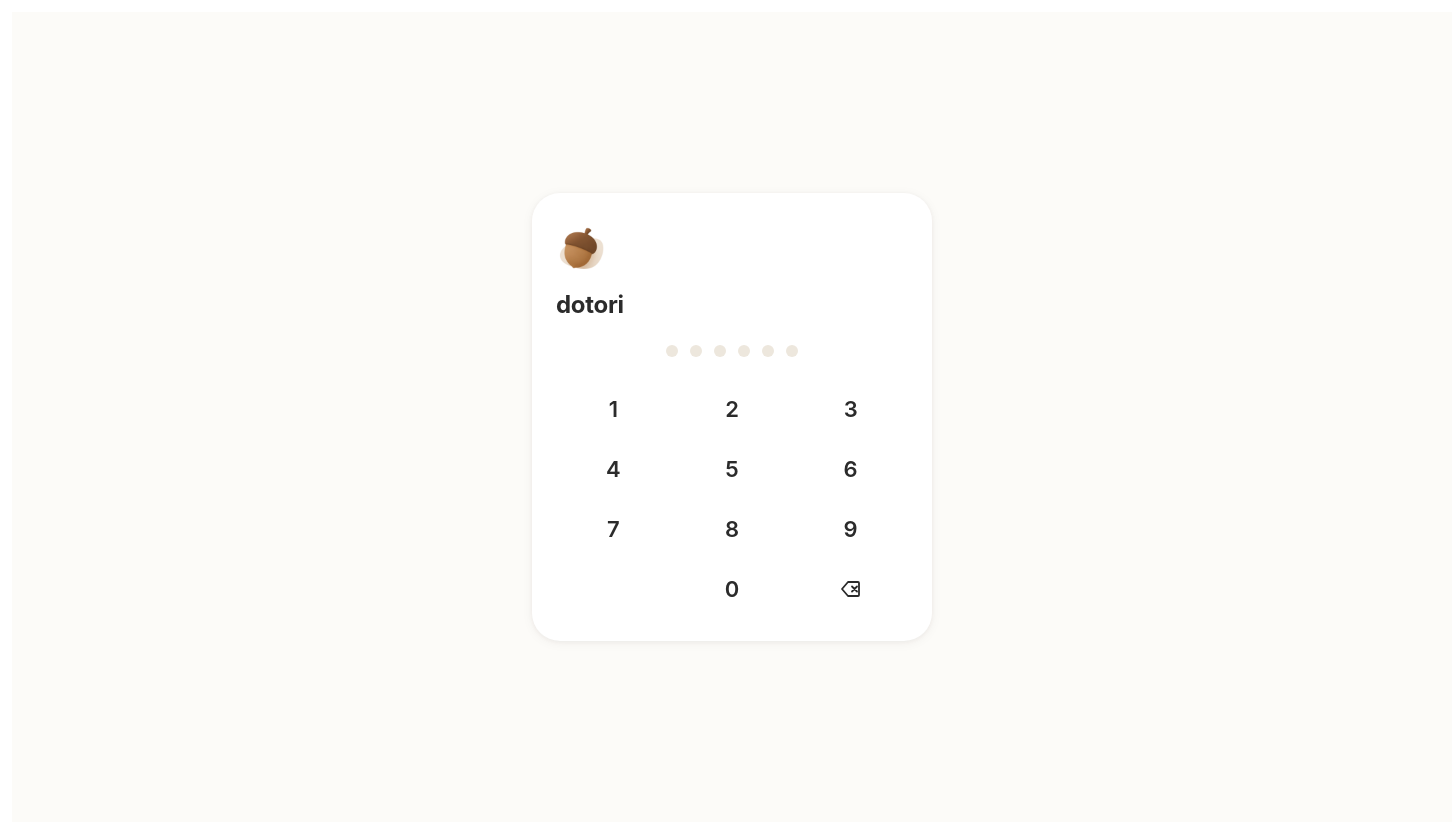
Scenario: LockGate — 재진입 (PIN 잠금) › 올바른 PIN을 입력하면 잠금이 해제된다
Click the button "1": x=613, y=409 [556,381,671,437]
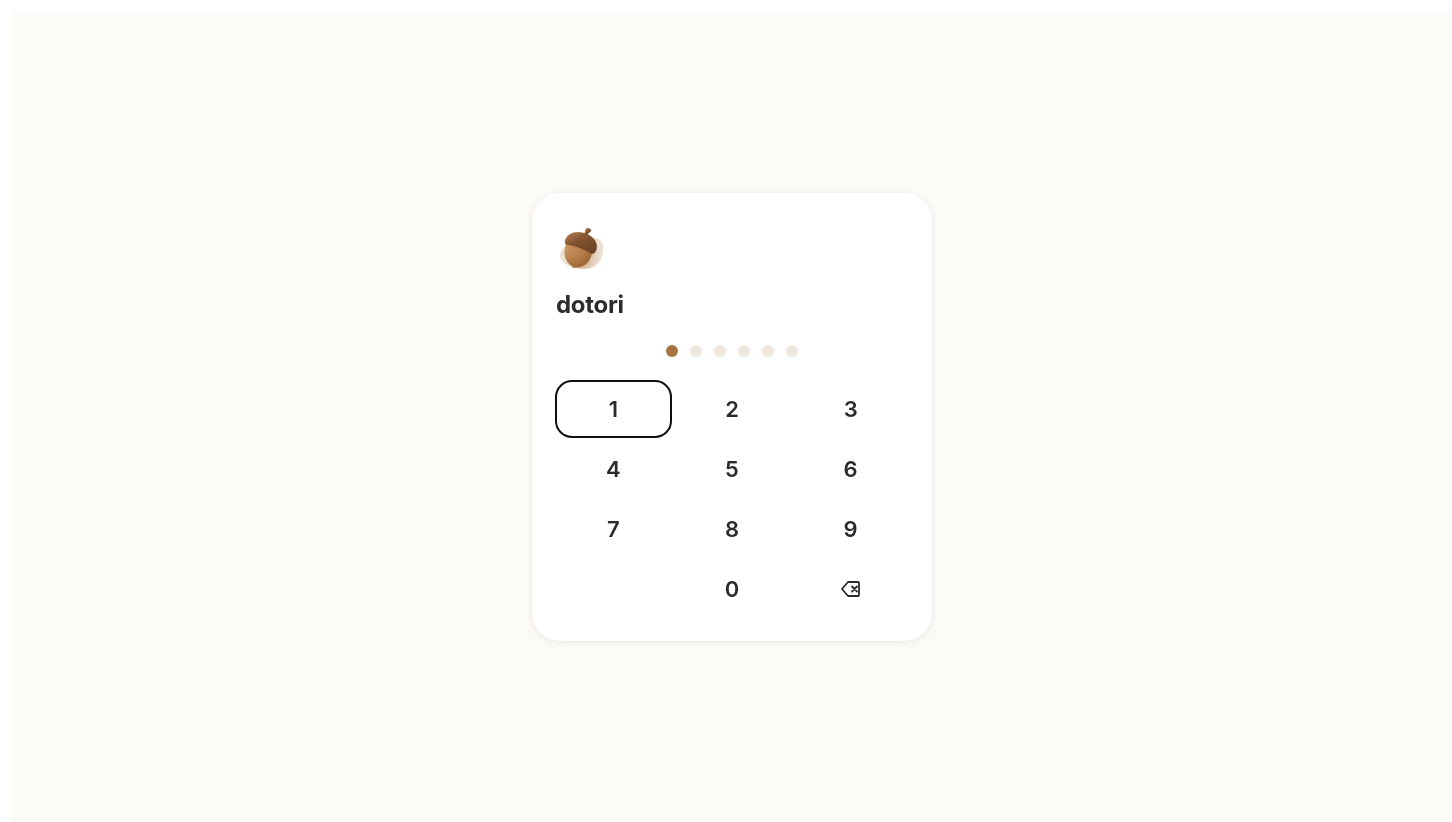
Click the button "3": x=851, y=409 [793,381,908,437]
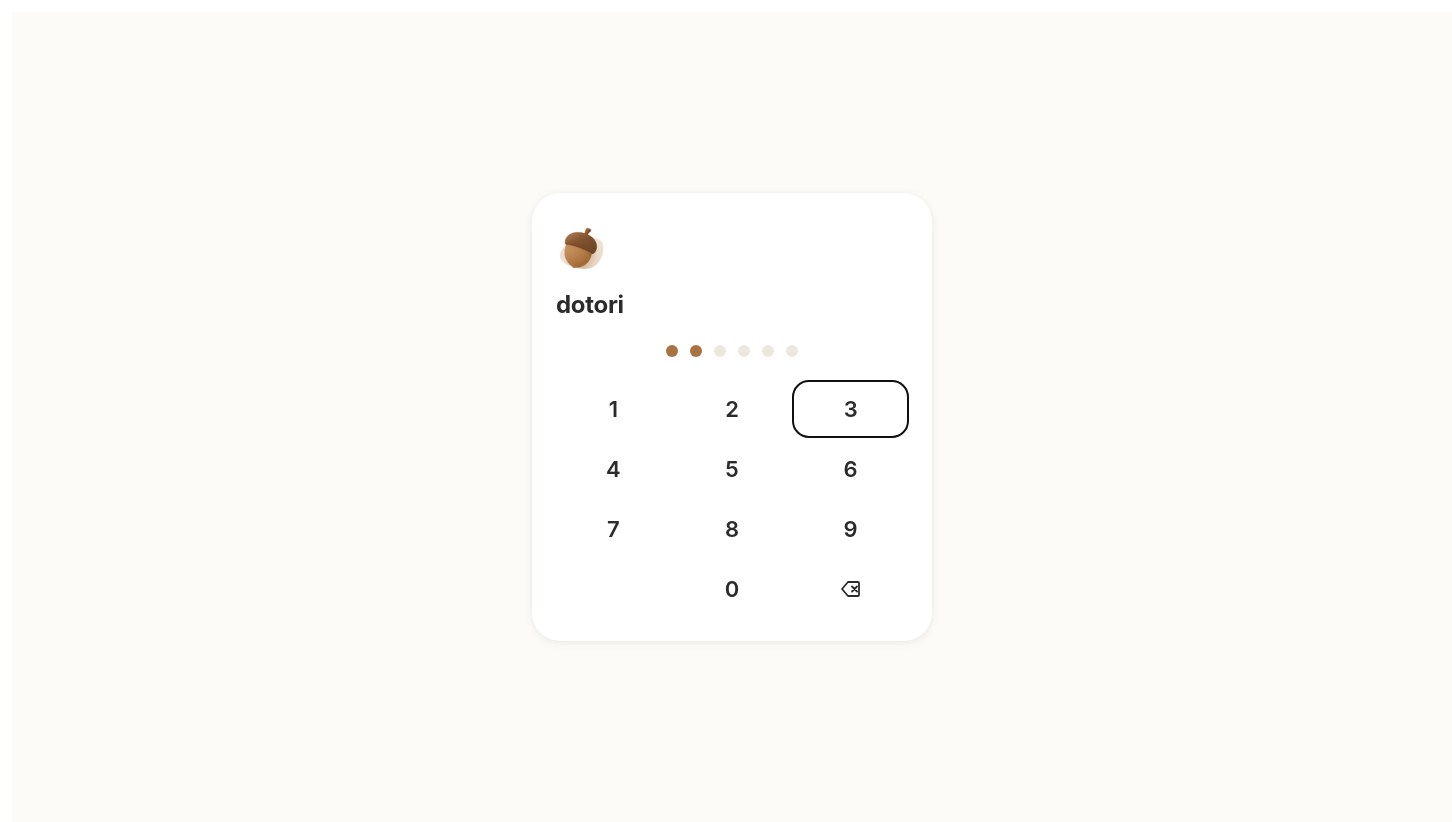
Click the button "5": x=732, y=469 [675,441,789,497]
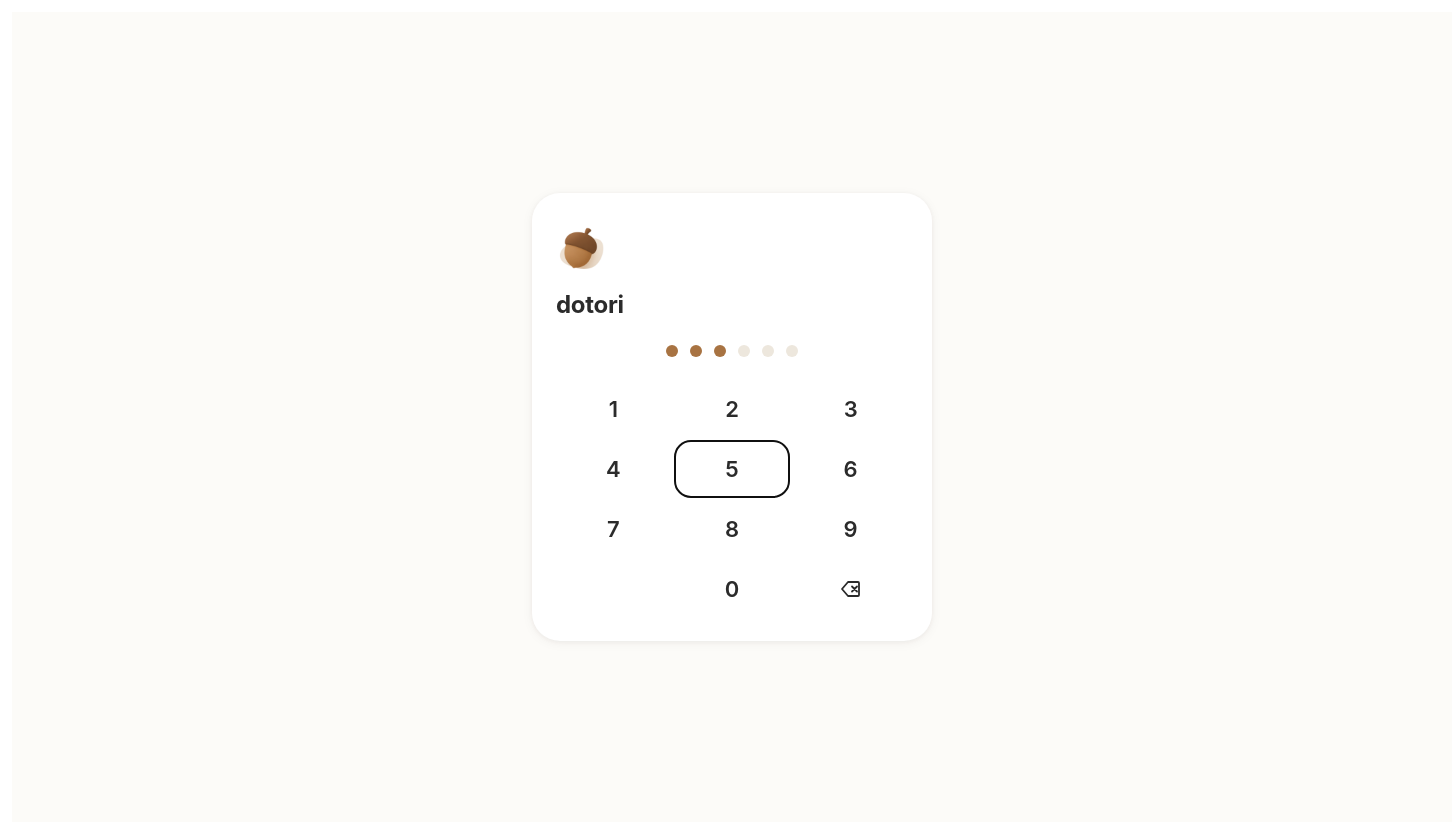
Click the button "7": x=613, y=529 [556,501,671,557]
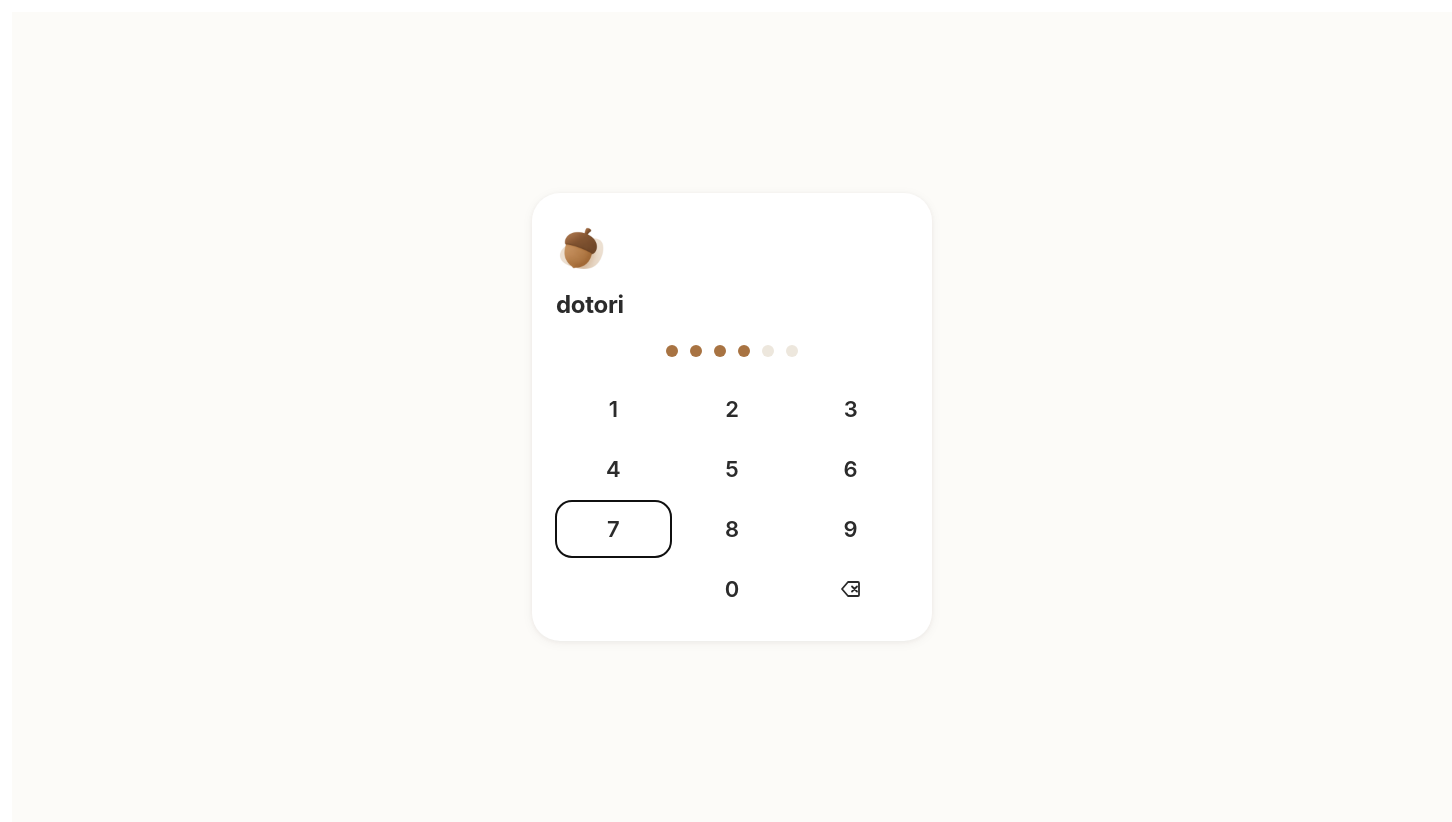
Click the button "9": x=851, y=529 [793,501,908,557]
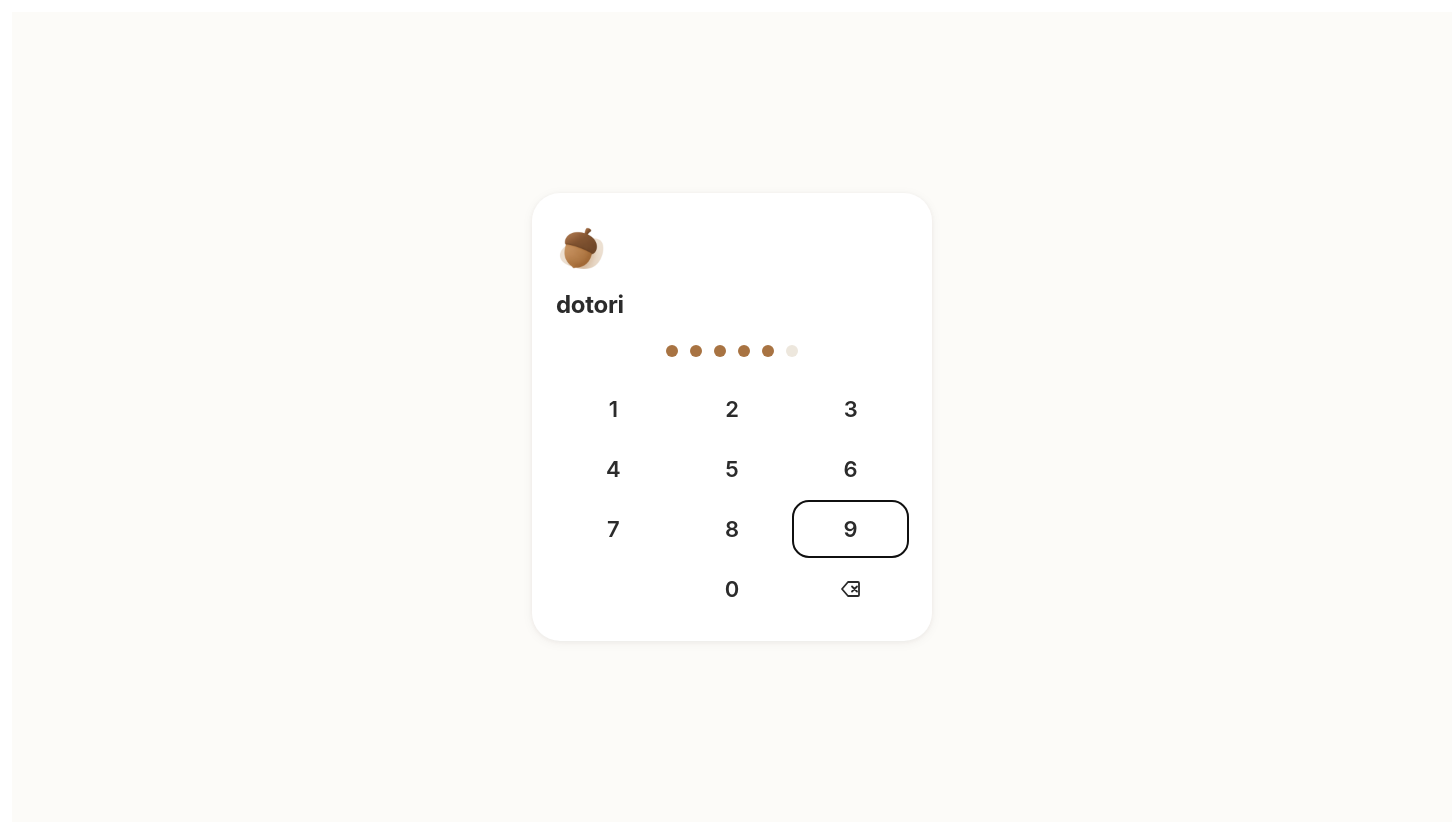
Click the button "0": x=732, y=589 [675,561,789,617]
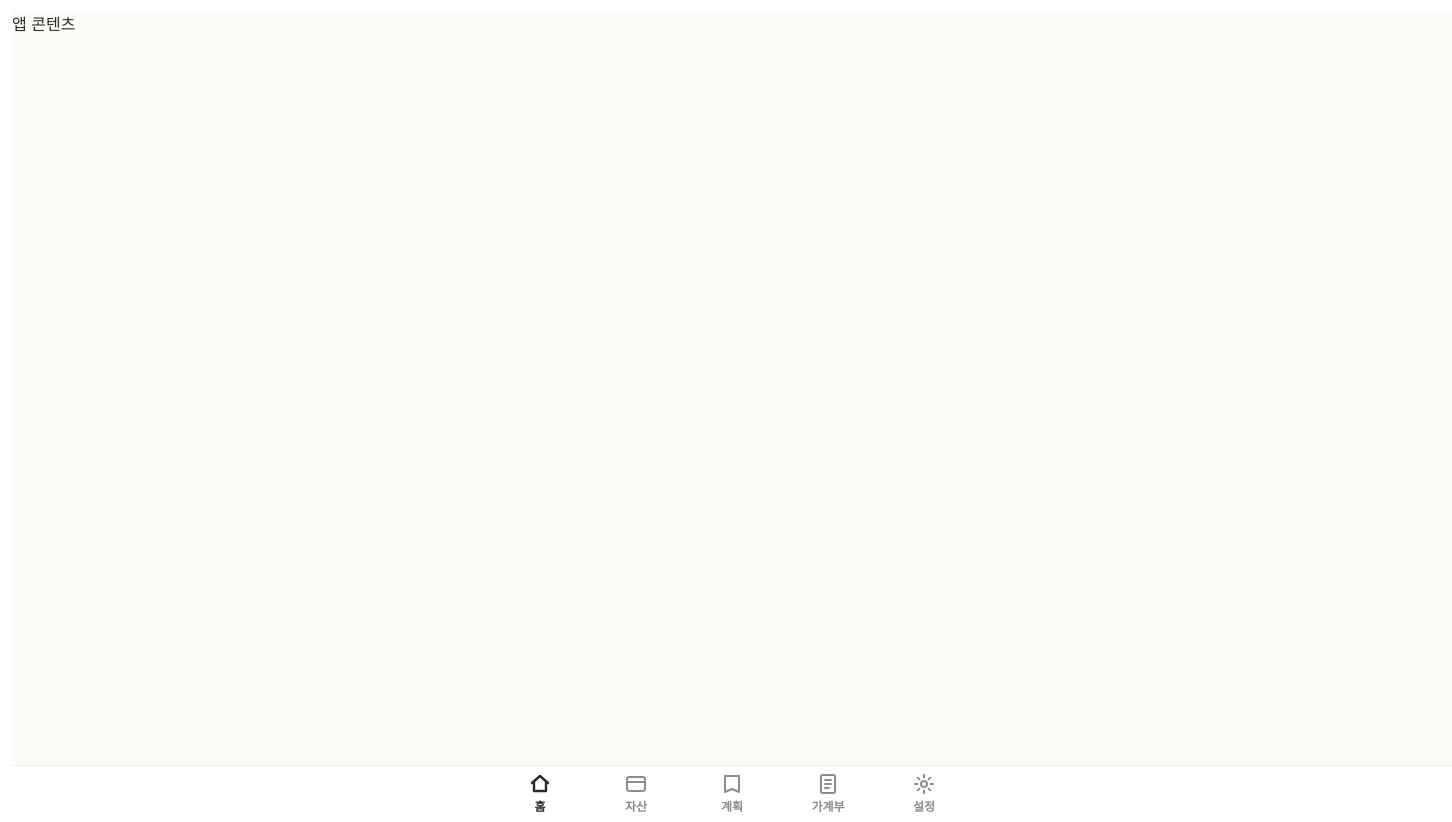
Now the text "앱 콘텐츠" is shown, box [12,14,75,34]
